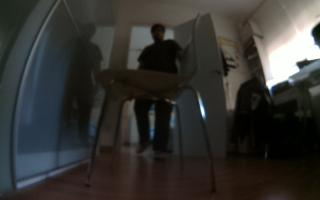person: (125, 22, 185, 160)
